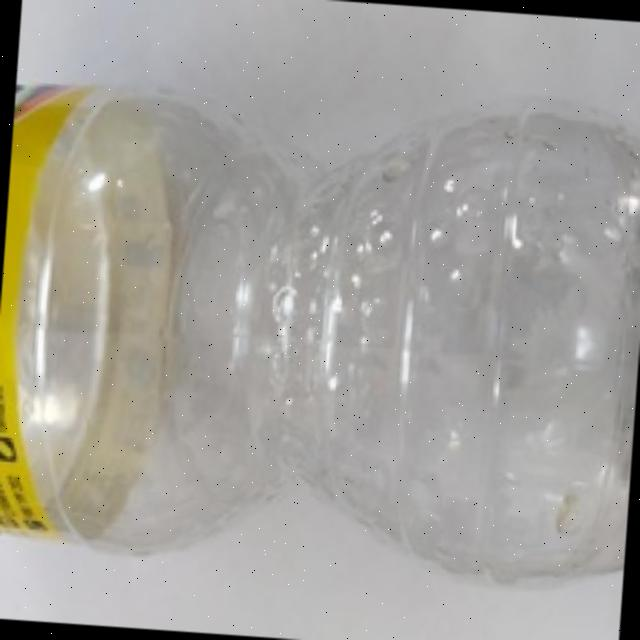bottle: (0, 82, 640, 592)
label: (0, 81, 140, 545)
